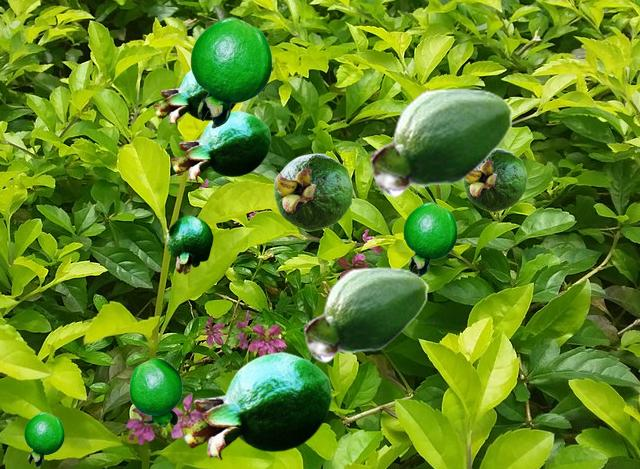guava: (180, 351, 331, 459), (369, 87, 513, 197), (303, 266, 428, 362), (190, 17, 271, 127), (170, 110, 270, 181), (273, 153, 352, 230), (153, 70, 236, 124), (462, 148, 526, 211), (403, 202, 456, 275), (129, 358, 181, 426), (166, 215, 212, 273), (24, 412, 63, 466)
